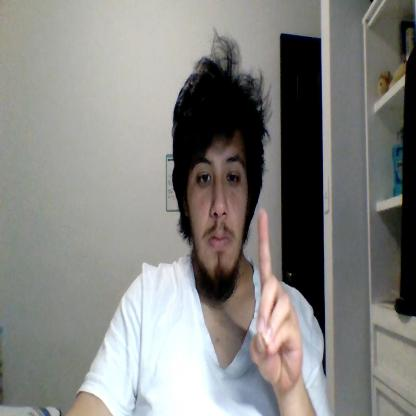D: (250, 208, 303, 392)
